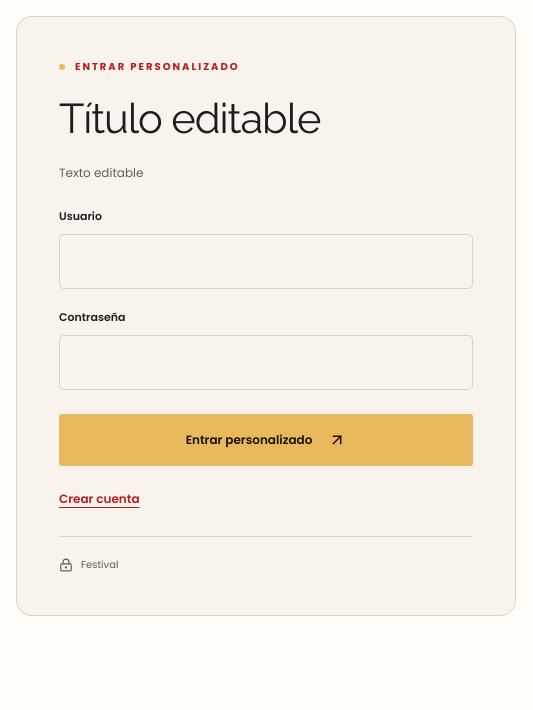
it: interfaz conectada a configuración › envía login a Django y muestra sus errores reales
Expected: the heading "Título editable" is shown, [59, 94, 320, 143]
Expected: the button "Entrar personalizado" is enabled, [59, 414, 473, 466]
Type "ana" into the field labelled "Usuario". click: (266, 262)
box: [59, 234, 473, 289]
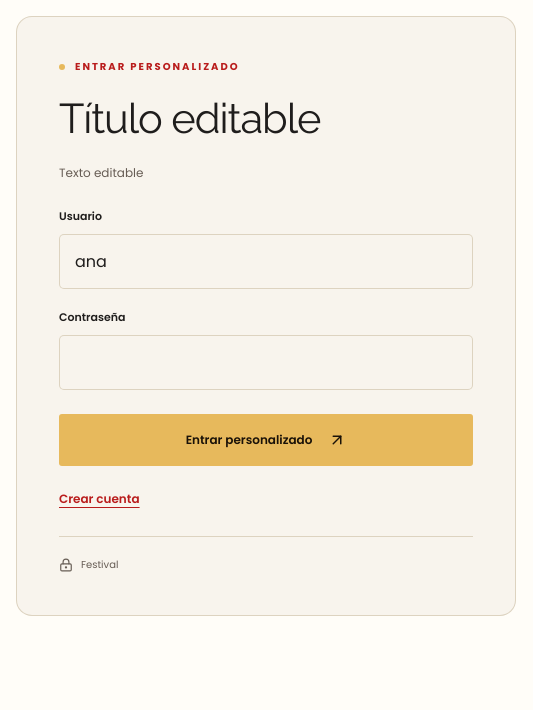
Type "incorrecta" into the password field labelled "Contraseña". click: (266, 362)
box: [59, 335, 473, 390]
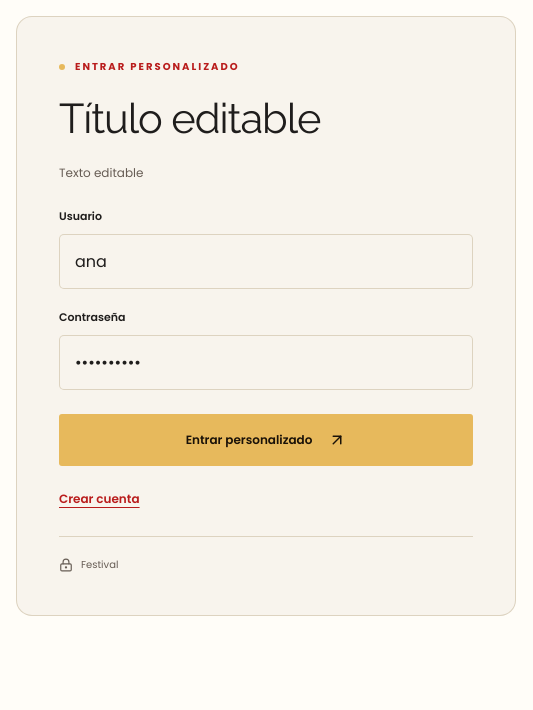
Click the button "Entrar personalizado". click: (266, 440)
box: [59, 414, 473, 466]
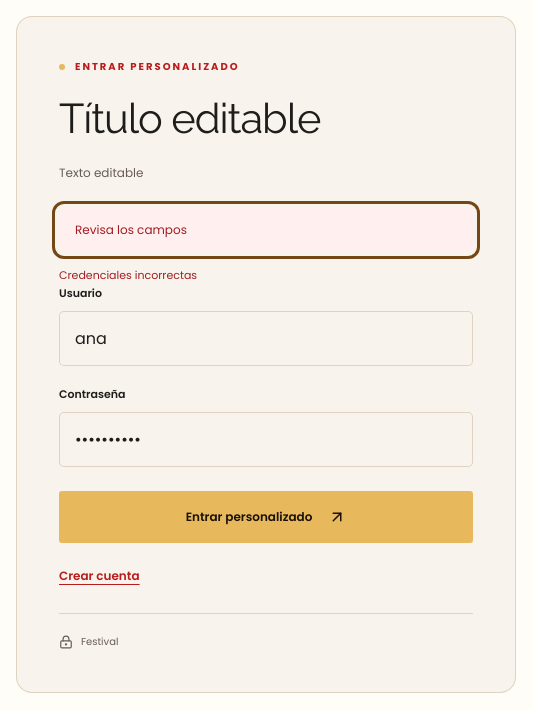
Result: the text "Credenciales incorrectas" is shown at [59, 267, 197, 283]
